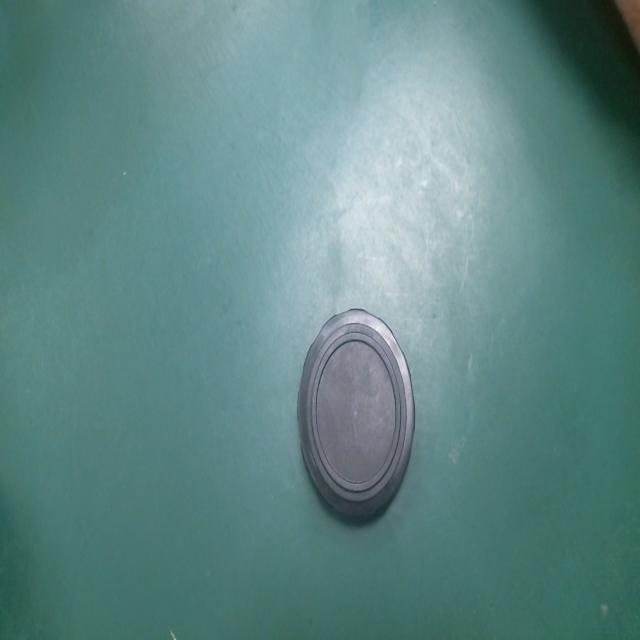cover: (290, 288, 422, 534)
